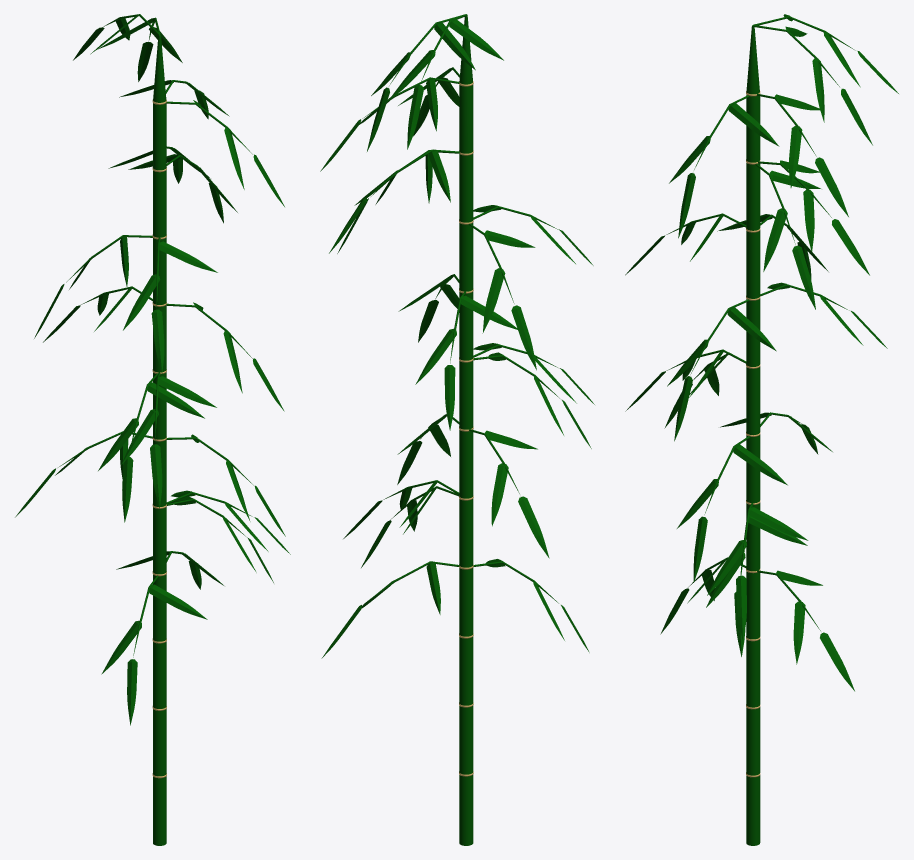
The picture shows the model from 3 angles, left to right: view 1: azimuth 30°, elevation 25°; view 2: azimuth 150°, elevation 25°; view 3: azimuth 270°, elevation 25°; orthographic projection. The views are drawn at different scales.
Visible parts, largest first — view 1: 竹５; view 2: 竹５; view 3: 竹５.
Part boxes in pixels (x1,y1,x2,y2): 竹５: (15,14,290,845); 竹５: (320,14,594,845); 竹５: (625,14,898,845).
Bounding box in the file's own units: 1046 × 3406 × 1031.
